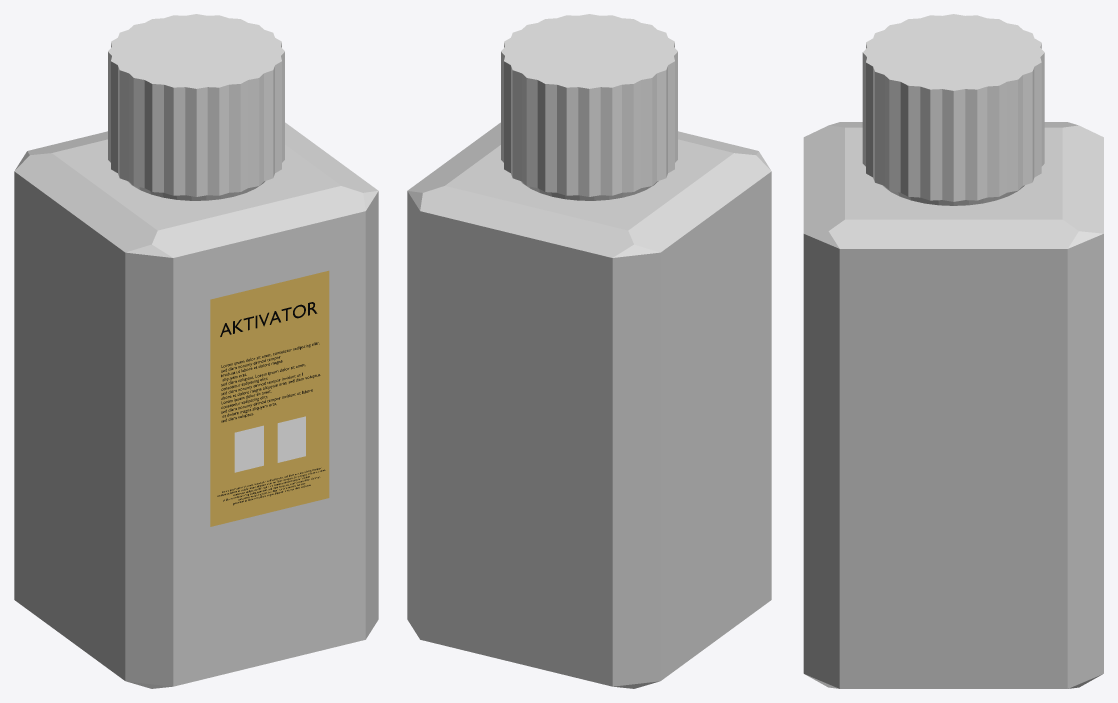
File: AktivatorFBX.fbx
3 renders of one model, left to right at view 1: azimuth 30°, elevation 25°; view 2: azimuth 150°, elevation 25°; view 3: azimuth 270°, elevation 25°, orthographic. The views are drawn at different scales.
Visible parts, largest first — view 1: Cube, Cylinder.001, Plane, Text.001, Gesundheit, Schädigung, Text.002, Cylinder; view 2: Cube, Cylinder.001, Cylinder; view 3: Cube, Cylinder.001, Cylinder.
Part boxes in pixels (left/top/right/bottom): Cube: left=14, top=122, right=378, bottom=688; Cylinder.001: left=108, top=14, right=284, bottom=196; Plane: left=210, top=270, right=329, bottom=526; Text.001: left=221, top=342, right=320, bottom=422; Gesundheit: left=234, top=425, right=263, bottom=472; Schädigung: left=277, top=416, right=305, bottom=462; Text.002: left=217, top=468, right=325, bottom=505; Cylinder: left=127, top=181, right=265, bottom=200; Cube: left=407, top=122, right=771, bottom=688; Cylinder.001: left=501, top=14, right=677, bottom=196; Cylinder: left=520, top=181, right=658, bottom=200; Cube: left=803, top=122, right=1103, bottom=688; Cylinder.001: left=862, top=14, right=1044, bottom=201; Cylinder: left=883, top=185, right=1024, bottom=205.
Bounding box in the file's own units: 233 × 502 × 236.
7 materials, 2 textured.
